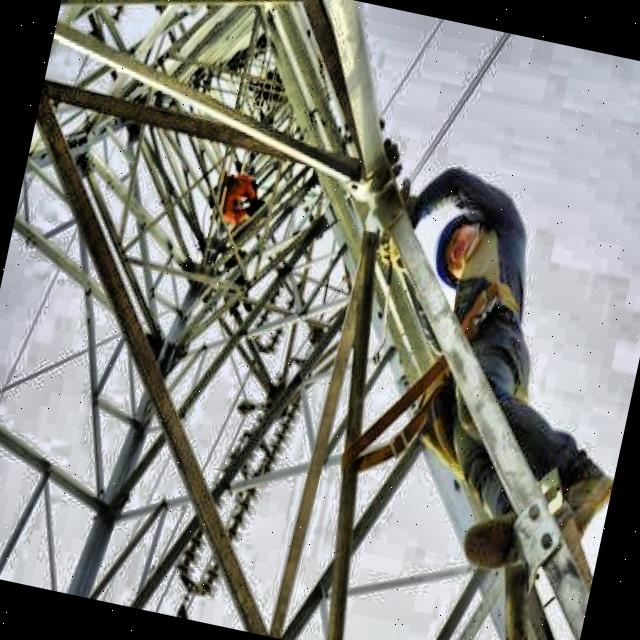helmet: (424, 201, 501, 293)
